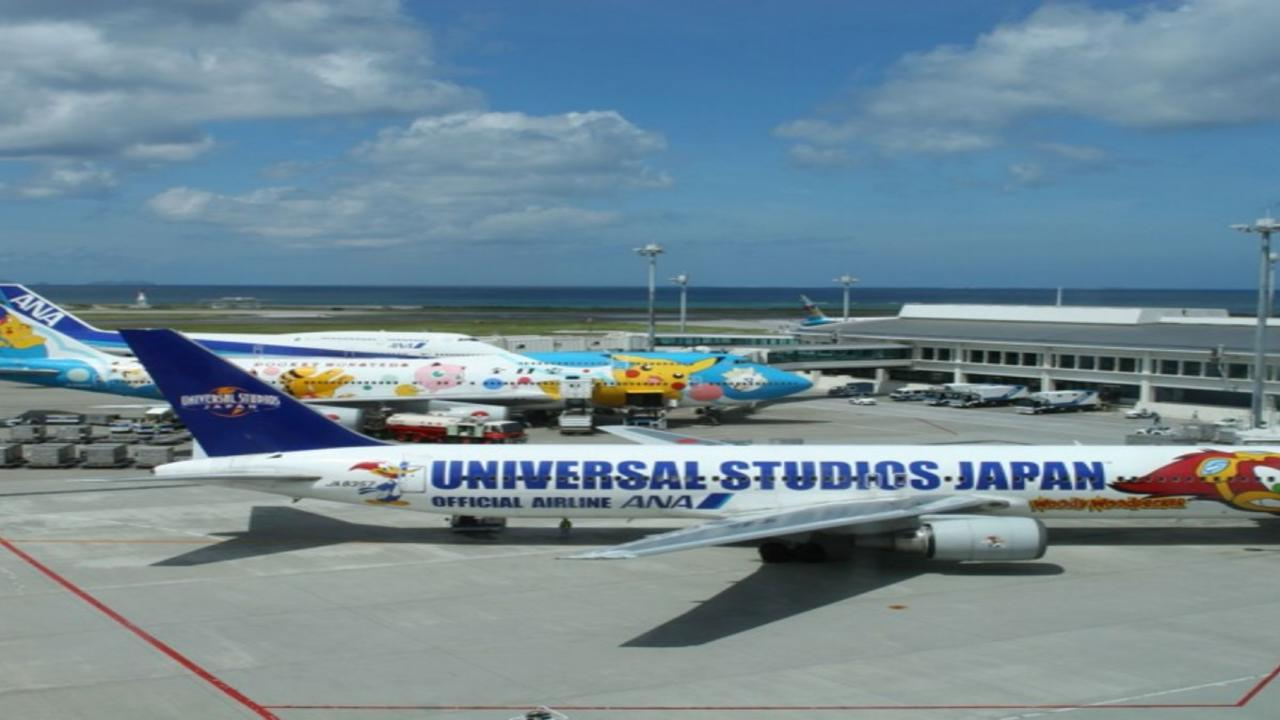Airplane: (126, 328, 1280, 586), (0, 306, 807, 436), (0, 262, 547, 360)
